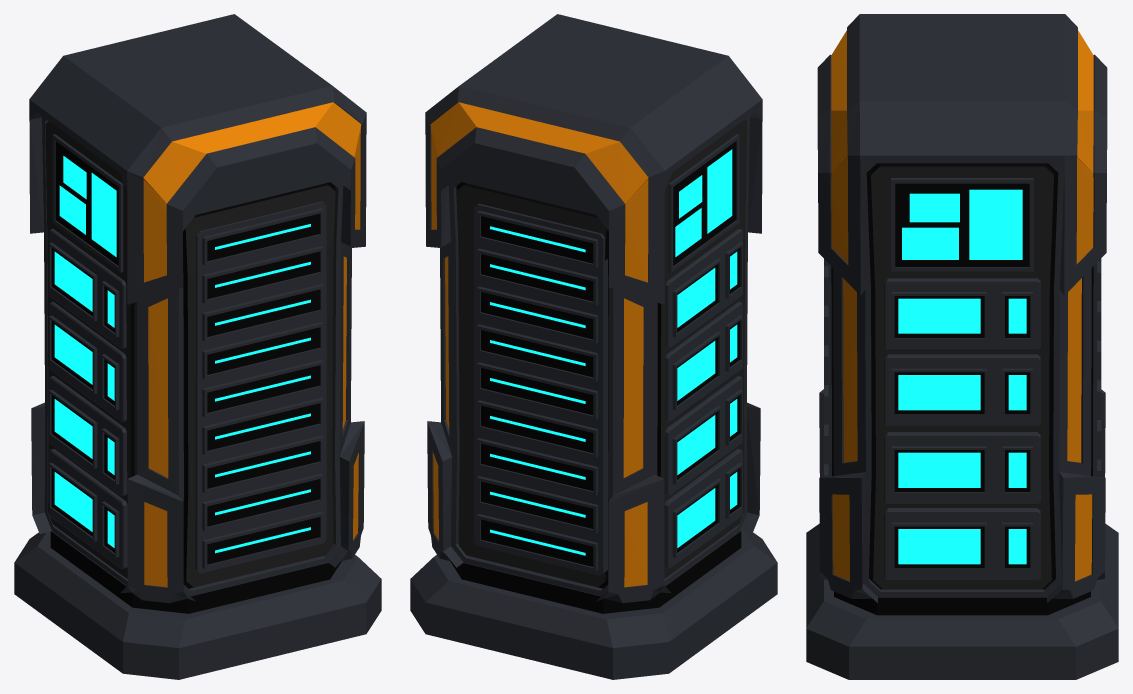
The model's file is SM_Server.fbx.
3 renders of one model, left to right at view 1: azimuth 30°, elevation 25°; view 2: azimuth 150°, elevation 25°; view 3: azimuth 270°, elevation 25°, orthographic. The views are drawn at different scales.
Parts seen in each view (by area): view 1: SM_Server_Base; view 2: SM_Server_Base; view 3: SM_Server_Base.
Part boxes in pixels (x1,y1,x2,y2): SM_Server_Base: [14, 14, 381, 679]; SM_Server_Base: [410, 14, 777, 679]; SM_Server_Base: [806, 14, 1118, 679].
Size of the model in its own units: 80 by 157 by 80.
